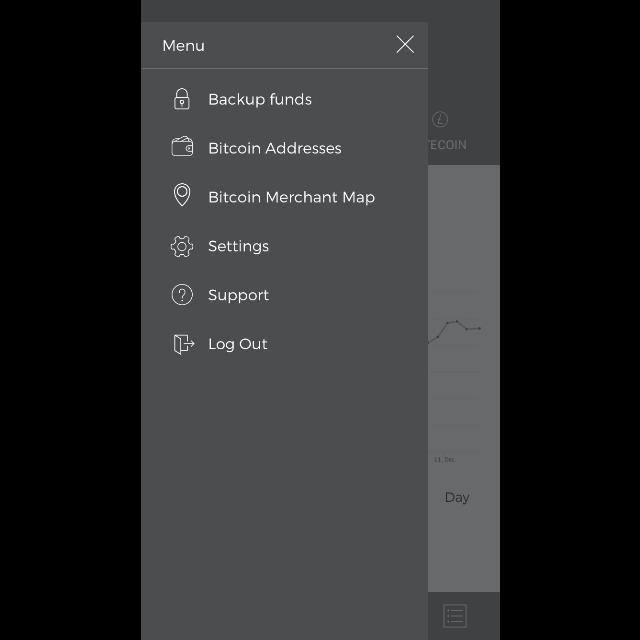icon: (170, 236, 193, 258), (170, 333, 193, 355), (171, 284, 193, 306), (394, 34, 416, 54), (171, 136, 193, 156), (173, 184, 190, 206), (174, 88, 188, 110)
panel: (140, 24, 428, 640)
text: (210, 190, 374, 206), (208, 92, 310, 110), (208, 142, 342, 154), (206, 336, 268, 354), (209, 240, 269, 256), (208, 290, 268, 304), (163, 40, 203, 52)
